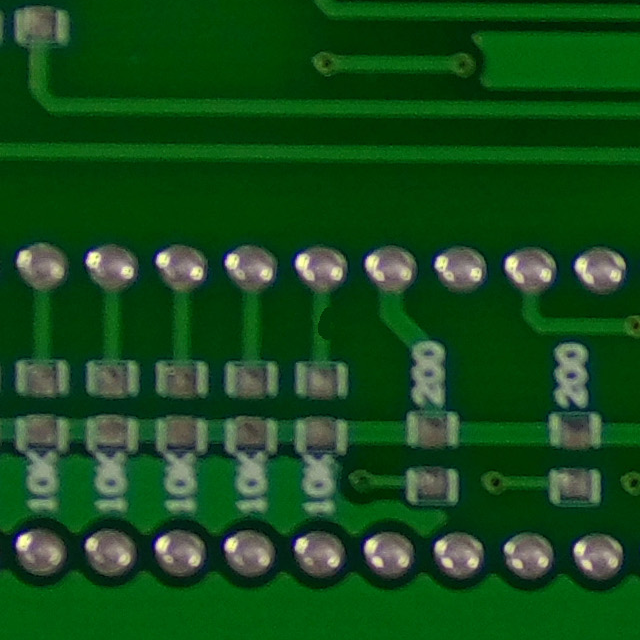mouse_bite: (301, 295, 340, 345)
